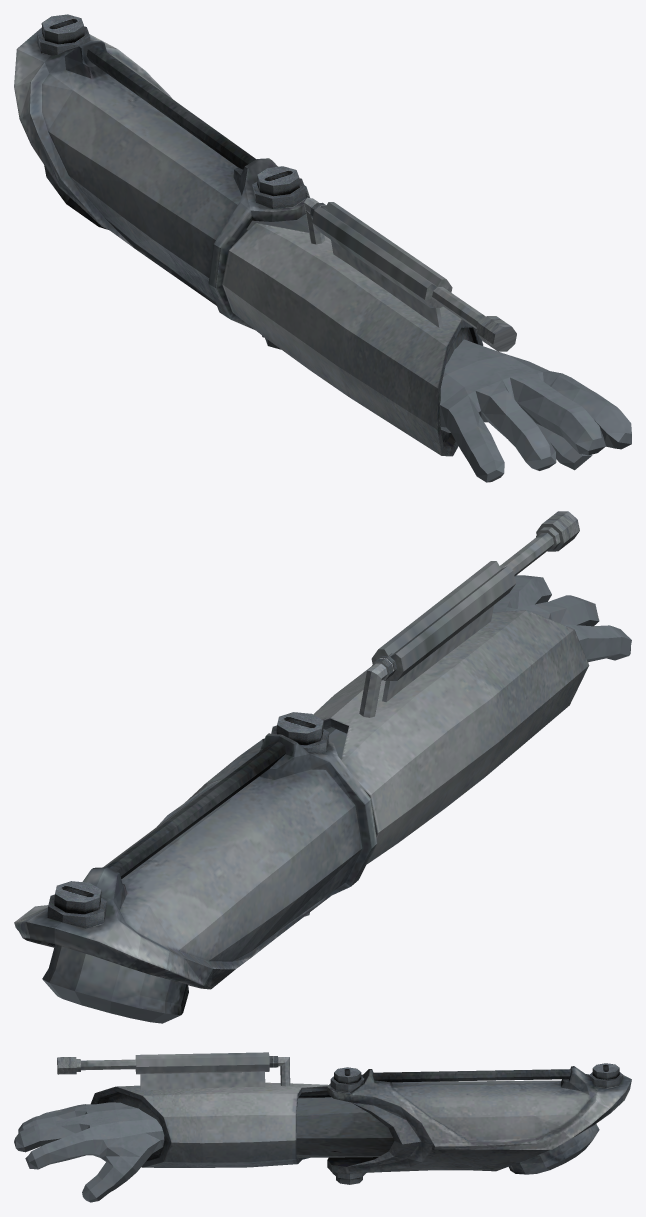
The model's file is Cyberman Arm.obj.
3 renders of one model, top to bottom at view 1: azimuth 30°, elevation 25°; view 2: azimuth 150°, elevation 25°; view 3: azimuth 270°, elevation 25°, orthographic. The views are drawn at different scales.
Bounding box in the file's own units: 18.87 × 19.49 × 91.2.
2 materials, 2 textured.
